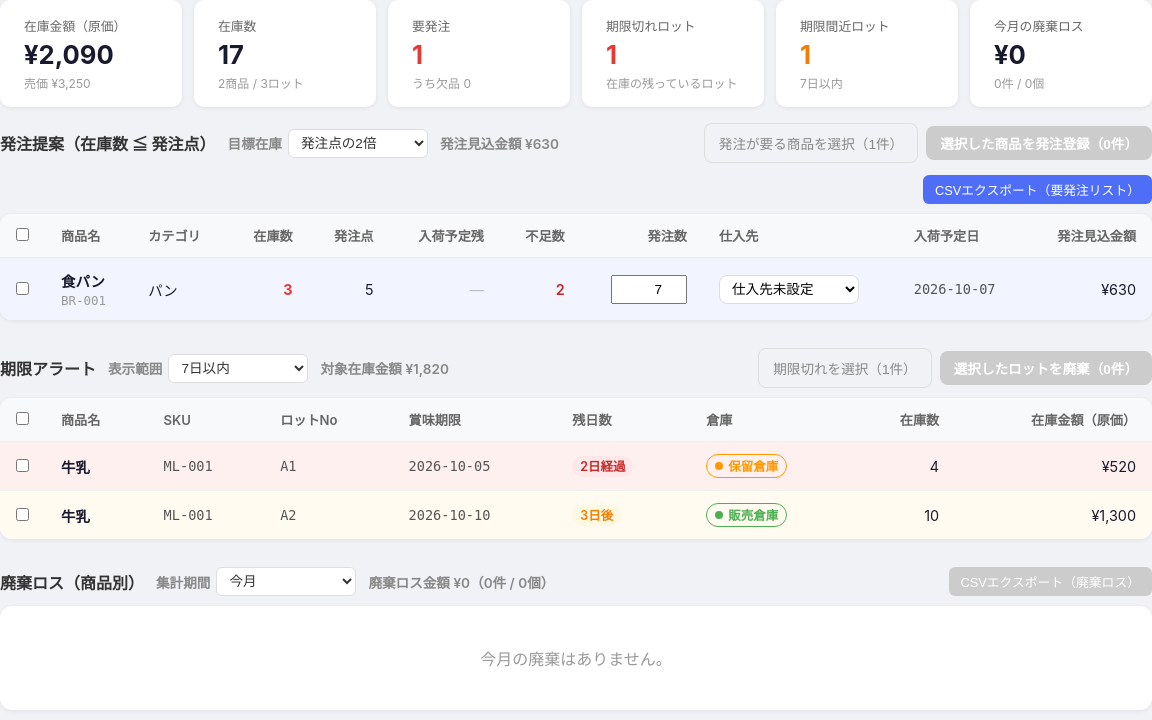
Test: DashboardView › 期限アラートは既定で7日以内、表示範囲を広げると対象が増える
The width and height of the screenshot is (1152, 720).
Select "14日以内" in the dropdown labelled "表示範囲" at (238, 368), box 168,354 -> 308,382
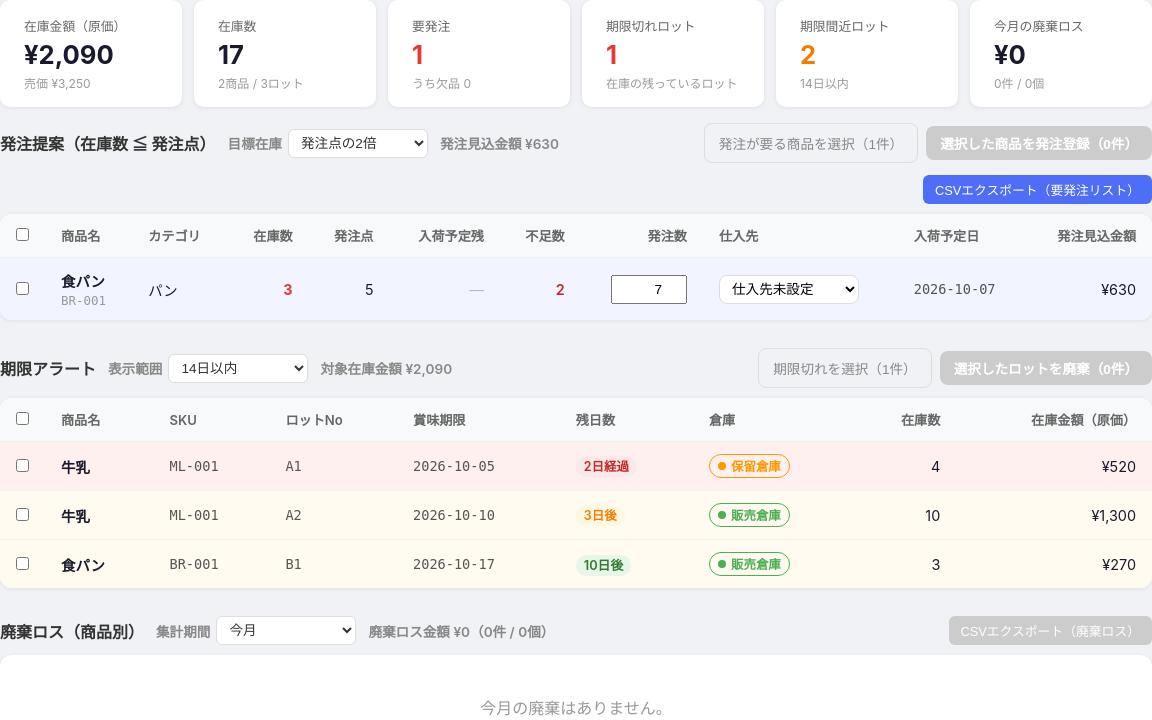
Check: the text "2日経過" is shown, box 576,456 -> 637,477
Check: the text "10日後" is shown, box 576,554 -> 631,576
